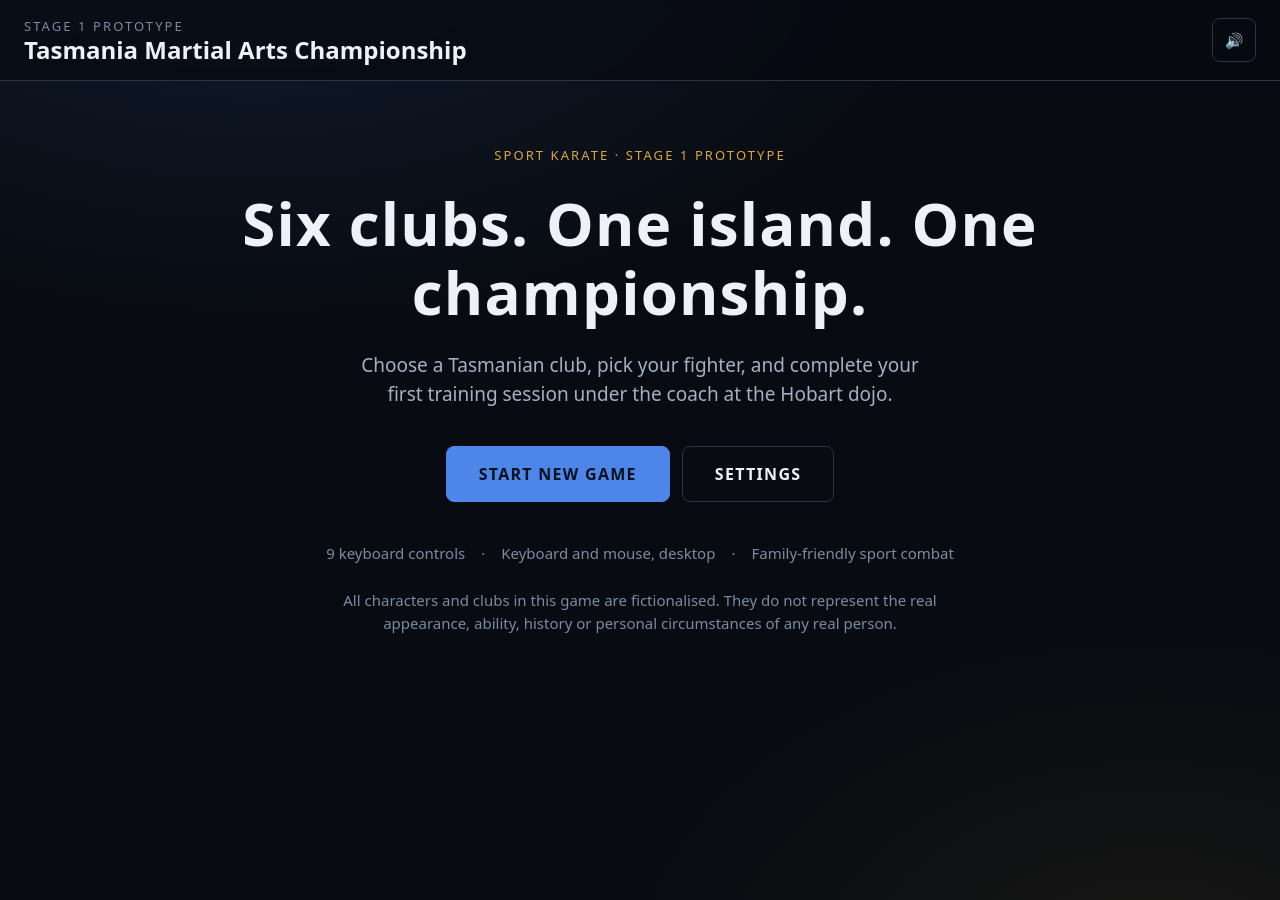
Test: fighter selection › renders all five ratings for the highlighted fighter
This screenshot has width=1280, height=900.
Click the button with test id "start-game".
click(558, 474)  # box [446,446,670,502]
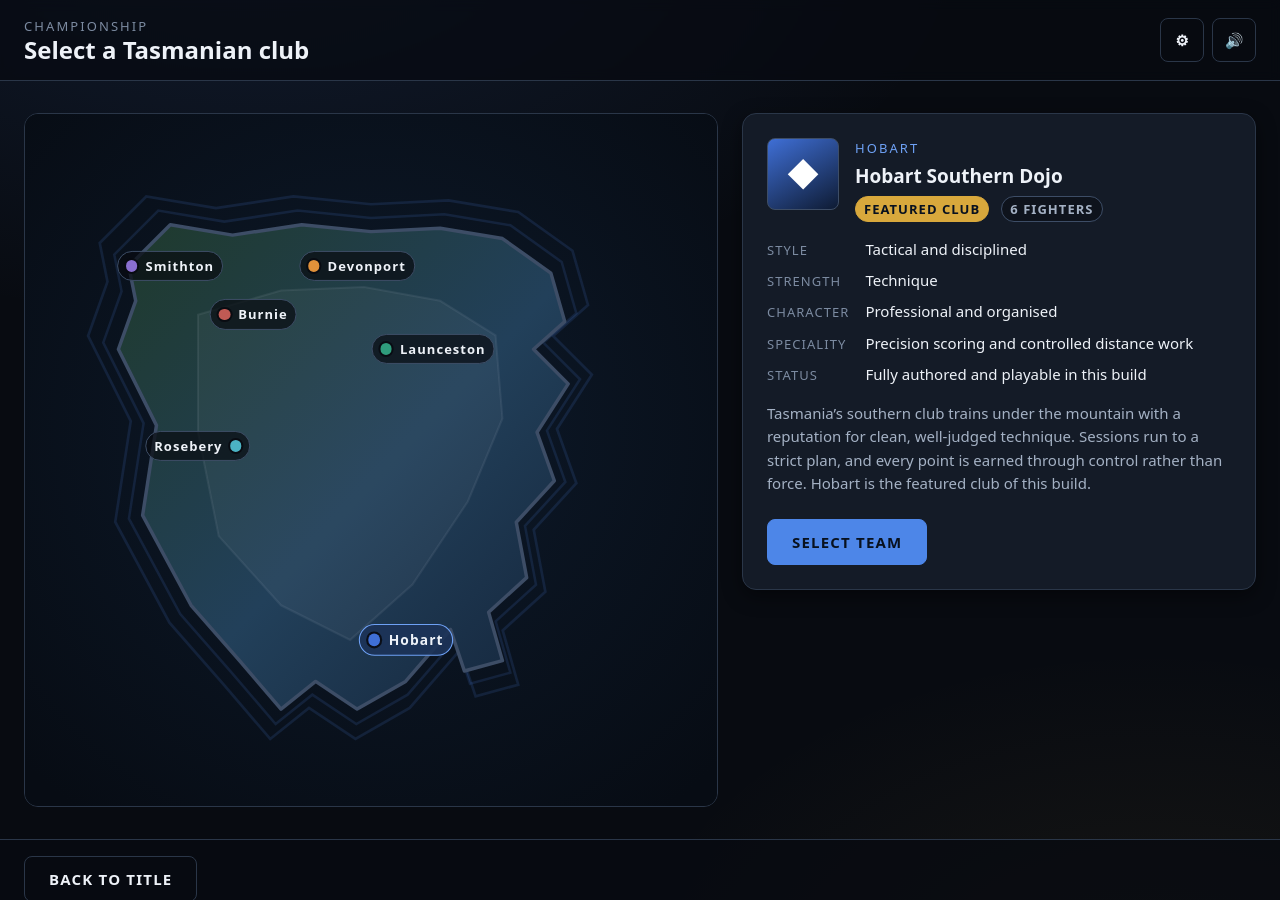
Click the button with test id "select-team".
click(847, 542)  # box [767,519,928,565]
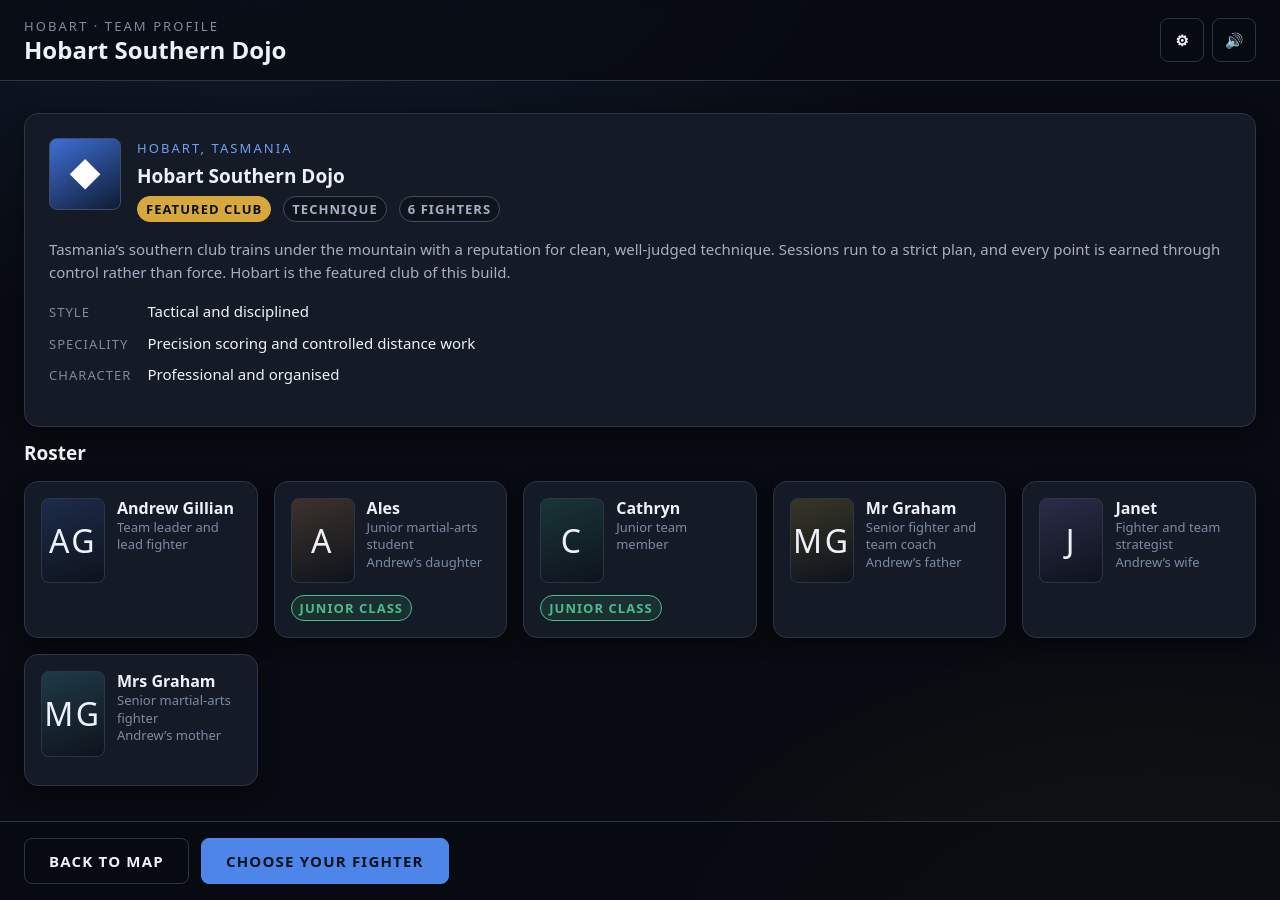
Click the button with test id "view-roster".
click(325, 861)  # box [201,838,449,884]
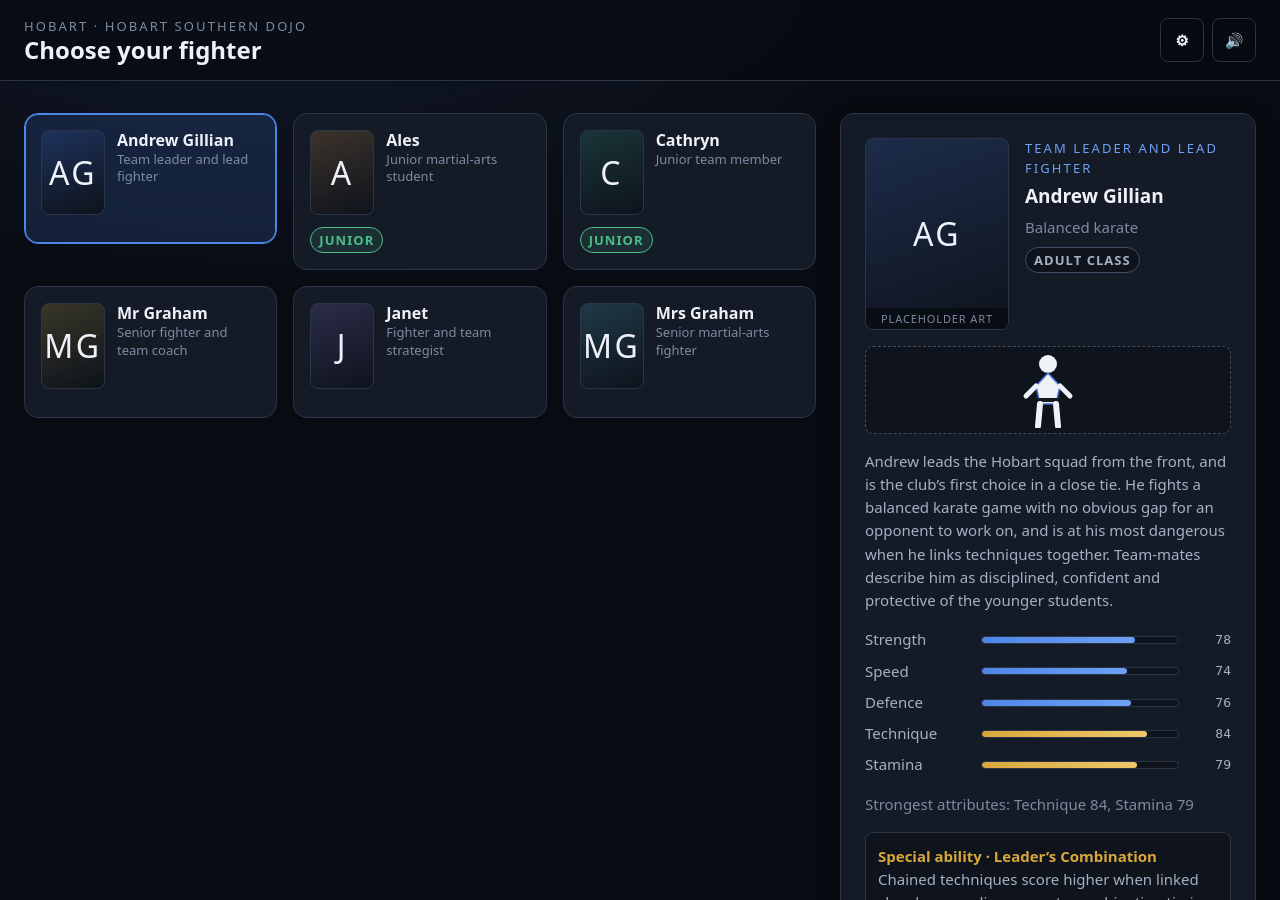
expect the element named "Strength" next to "78" is shown: met, box [981,636,1179,644]
expect the element named "Speed" next to "74" is shown: met, box [981,667,1179,675]
expect the element named "Defence" next to "76" is shown: met, box [981,699,1179,707]
